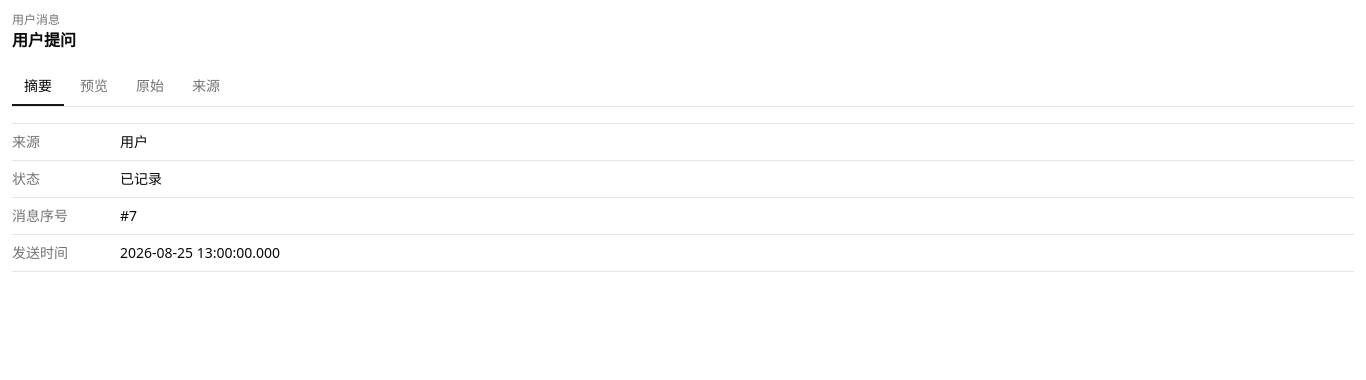
Test: TrajectoryNodeDetailPanel › 用户 Raw 保留原始 Block 内容但不暴露文件凭据，Source 只展示消息来源字段
The width and height of the screenshot is (1366, 380).
Click the tab "原始" at (150, 87), box left=124, top=68, right=176, bottom=106
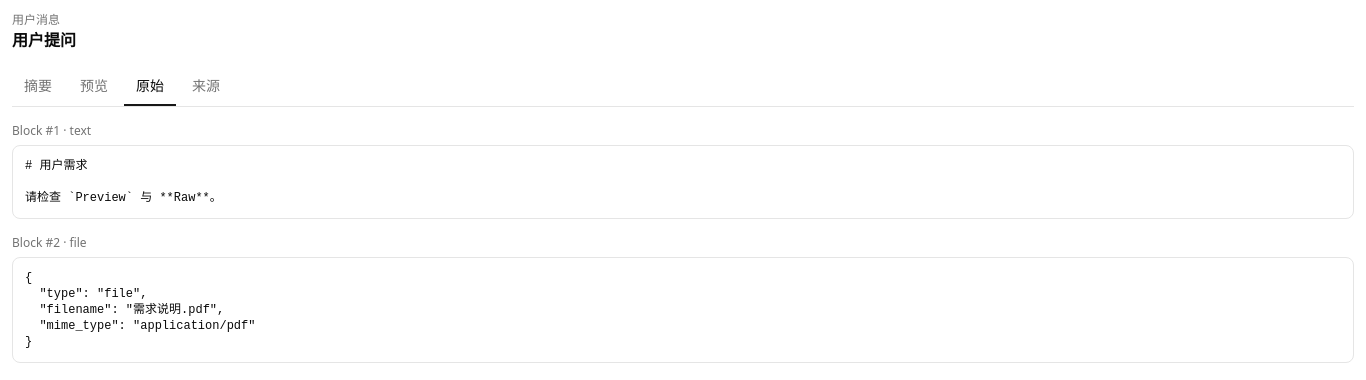
Now the heading "Block #1 · text" is shown, box left=12, top=122, right=91, bottom=139
Now the text "# 用户需求 请检查 `Preview` 与 **Raw**。" is shown, box left=25, top=159, right=222, bottom=205
Now the heading "Block #2 · file" is shown, box left=12, top=234, right=87, bottom=251
Click the tab "来源" at (206, 87), box left=180, top=68, right=232, bottom=106
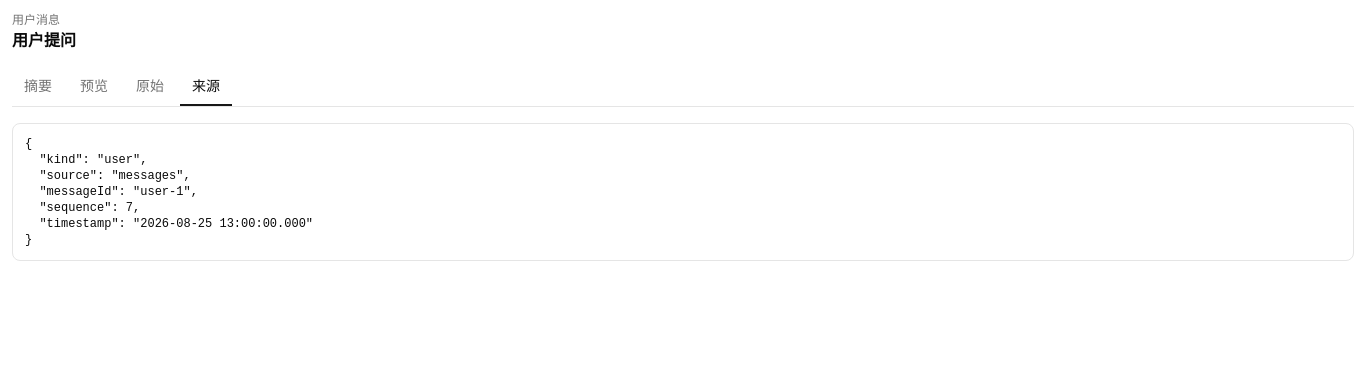
Now the panel named "来源" shows "\"kind\": \"user\"", box left=25, top=137, right=313, bottom=247
Now the panel named "来源" shows "\"messageId\": \"user-1\"", box left=25, top=137, right=313, bottom=247
Now the panel named "来源" shows "\"sequence\": 7", box left=25, top=137, right=313, bottom=247
